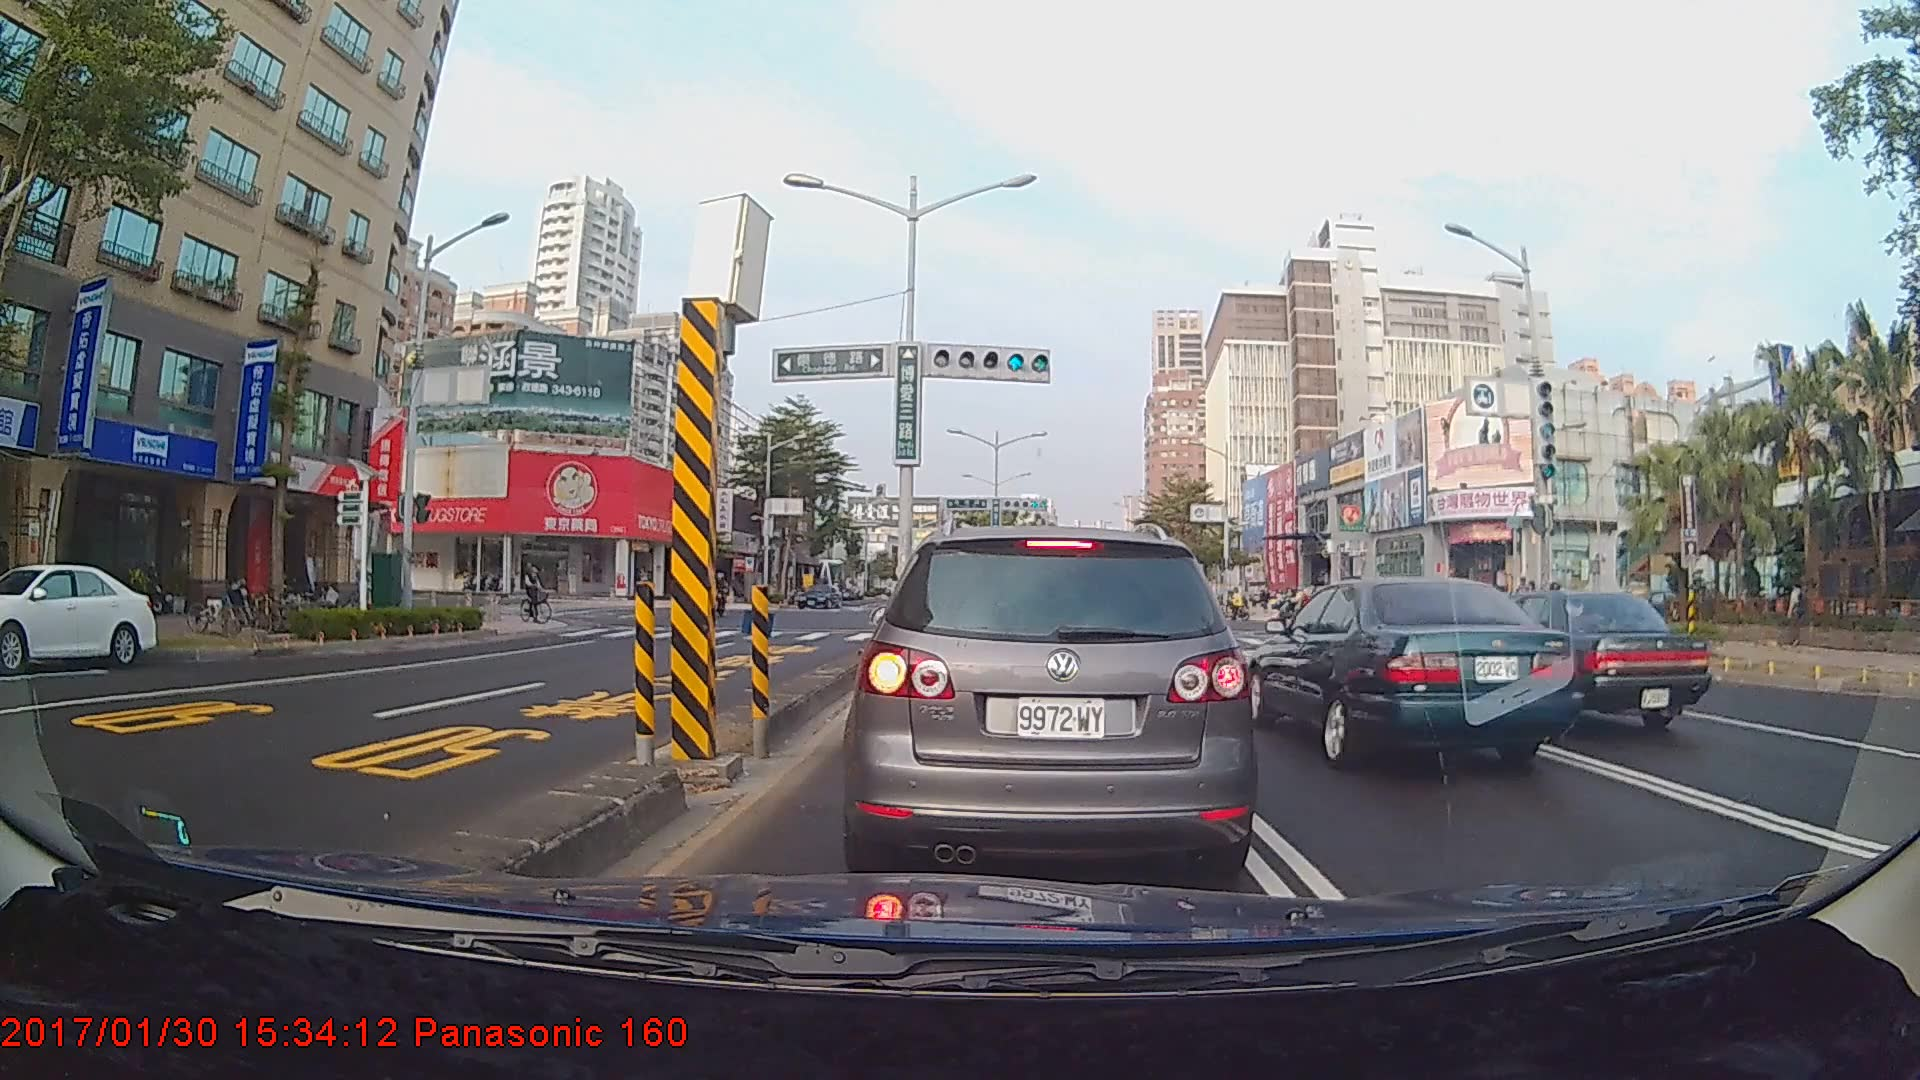pedestrian: (1783, 578, 1810, 645)
rider: (518, 559, 561, 629)
vehicle: (853, 519, 1249, 879), (1242, 572, 1585, 775), (1443, 586, 1712, 737), (0, 561, 161, 671), (797, 585, 840, 610)
